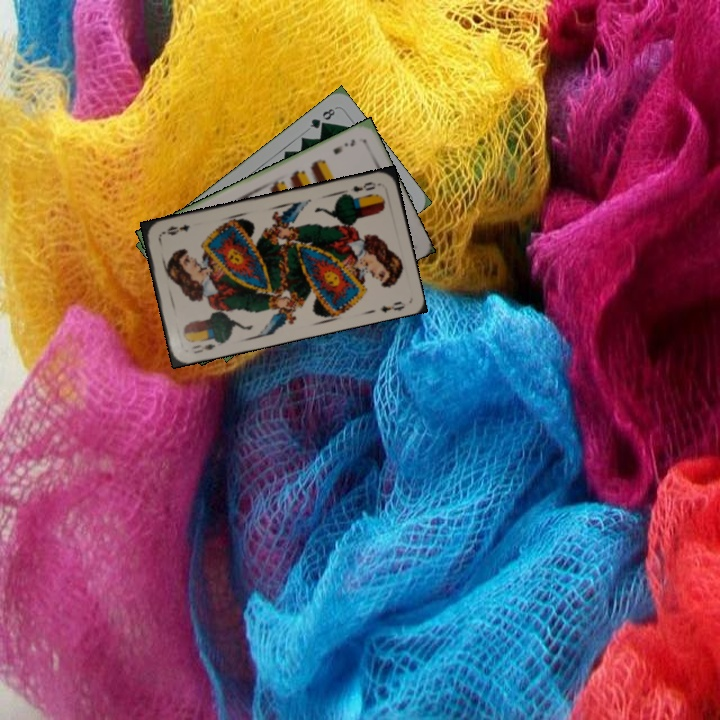E7: (329, 135, 358, 157)
EO: (342, 178, 382, 199), (188, 340, 218, 356)
G8: (306, 104, 338, 131)
